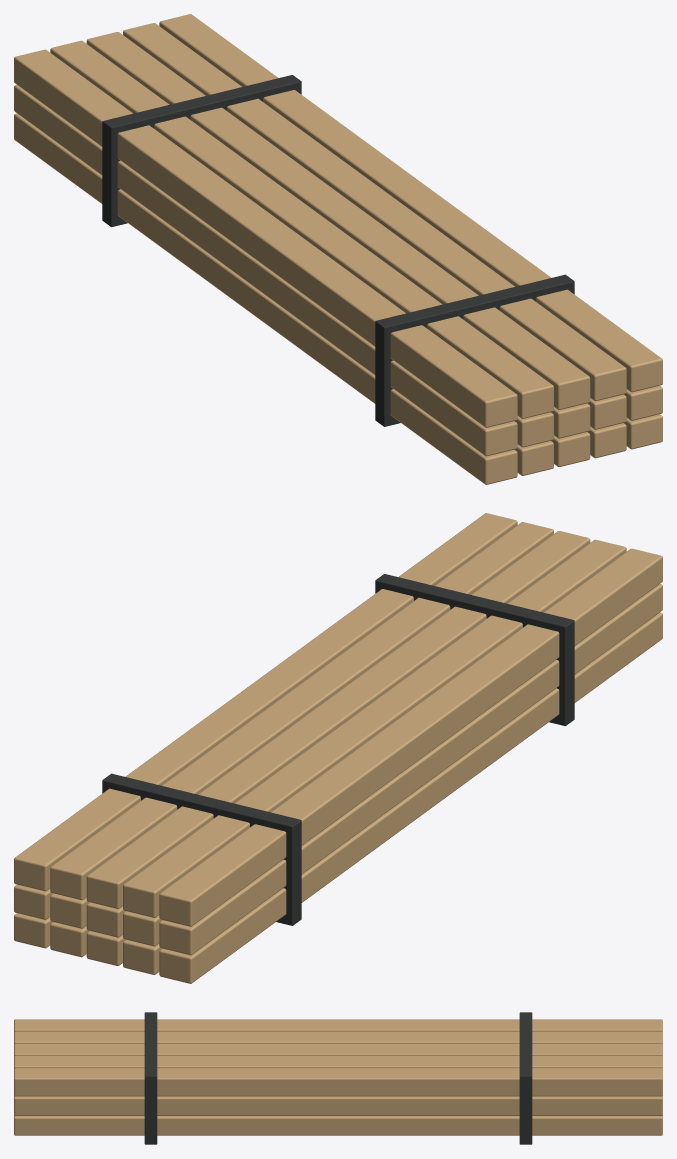
File: sawmill-and-timber-yard-drying-sticker-bundle-33d6a068__31192.glb
The picture shows the model from 3 angles, top to bottom: view 1: azimuth 30°, elevation 25°; view 2: azimuth 150°, elevation 25°; view 3: azimuth 270°, elevation 25°; orthographic projection. The views are drawn at different scales.
Parts seen in each view (by area): view 1: drying-sticker-bundle; view 2: drying-sticker-bundle; view 3: drying-sticker-bundle.
Boxes of the visible parts, bbox=[...] form: drying-sticker-bundle: bbox=[14, 14, 662, 484]; drying-sticker-bundle: bbox=[14, 513, 662, 983]; drying-sticker-bundle: bbox=[14, 1012, 662, 1144].
Bounding box in the file's own units: 0.21 × 0.105 × 0.9.
